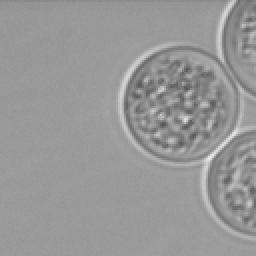picoshell: (116, 42, 238, 164), (200, 126, 254, 240), (216, 0, 254, 100)
